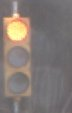Red: (2, 14, 38, 113)
